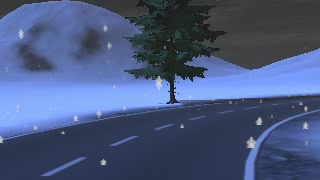Lane: (1, 95, 319, 179)
